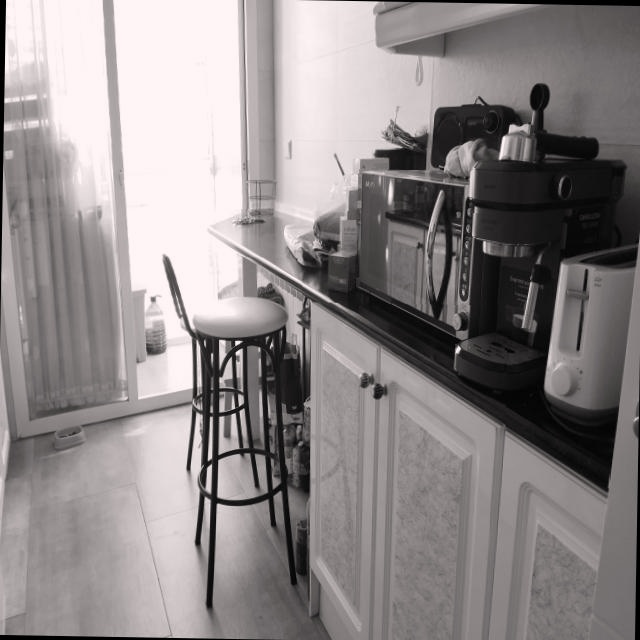cabinet: (308, 302, 505, 640), (488, 429, 606, 640)
chair: (166, 256, 296, 599)
countertop: (209, 209, 609, 488)
microwave: (357, 170, 472, 340)
